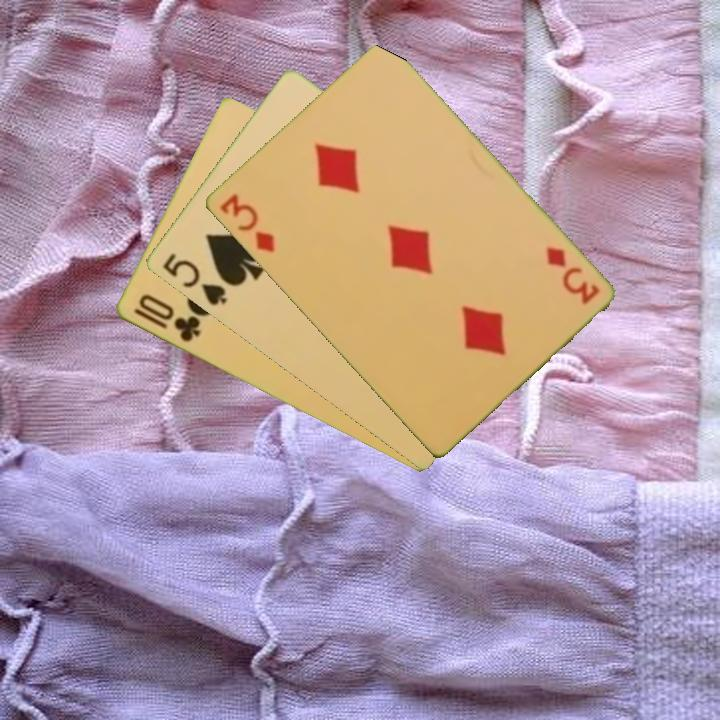10c: (130, 291, 203, 345)
3d: (216, 189, 277, 256), (541, 243, 602, 308)
5s: (158, 249, 230, 309)
